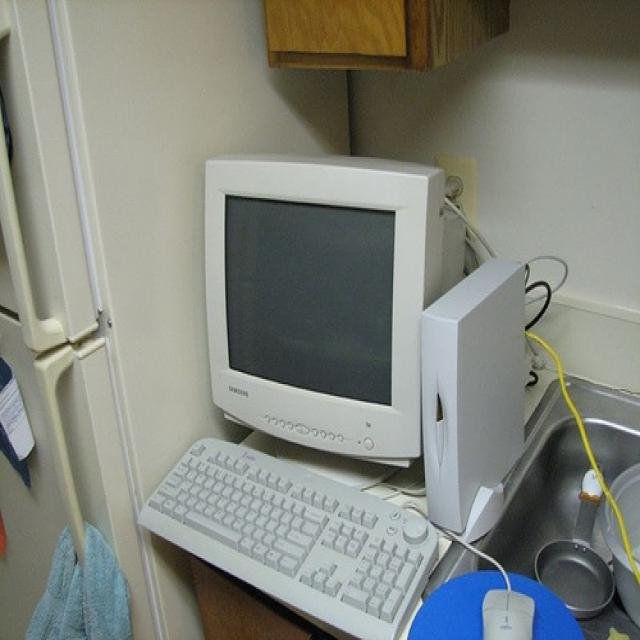tvmonitor: (199, 151, 440, 476)
